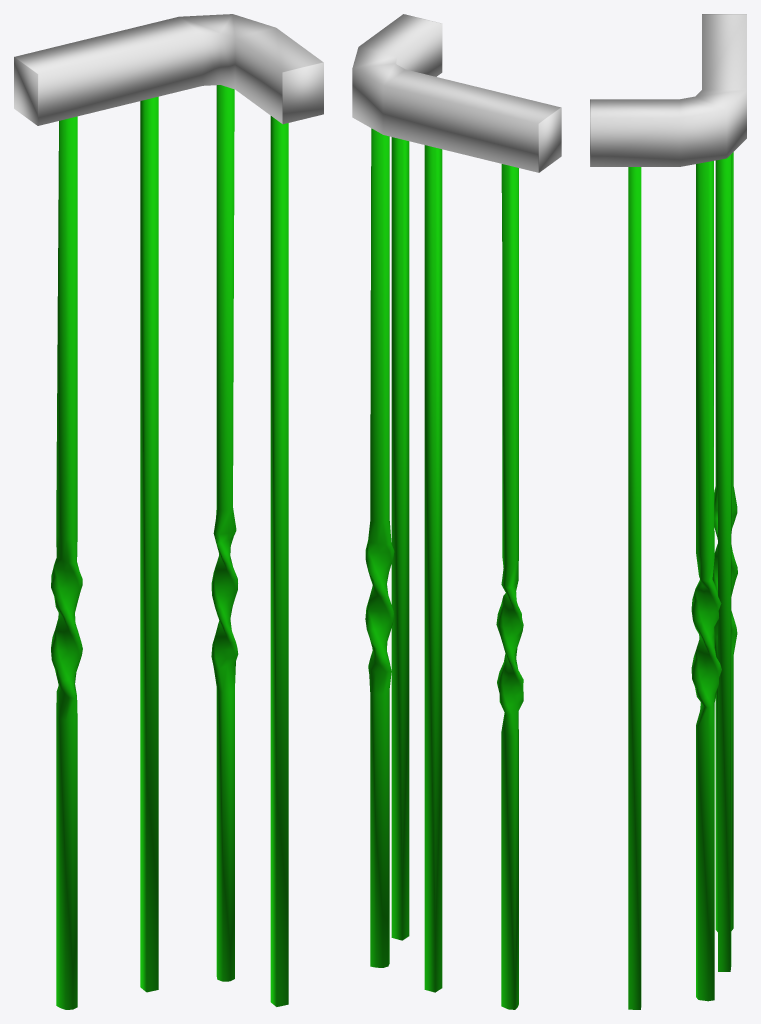
File: fence_corner.fbx
The picture shows the model from 3 angles, left to right: view 1: azimuth 30°, elevation 25°; view 2: azimuth 150°, elevation 25°; view 3: azimuth 270°, elevation 25°; orthographic projection. The views are drawn at different scales.
Parts seen in each view (by area): view 1: fence, railing; view 2: fence, railing; view 3: fence, railing.
Part boxes in pixels (left/top/right/bottom): fence: left=51, top=85, right=288, bottom=1009; railing: left=14, top=14, right=323, bottom=125; fence: left=365, top=128, right=523, bottom=1009; railing: left=352, top=14, right=561, bottom=172; fence: left=628, top=152, right=737, bottom=1009; railing: left=590, top=14, right=746, bottom=166.
Size of the model in its own units: 27.5 by 110 by 17.5.
